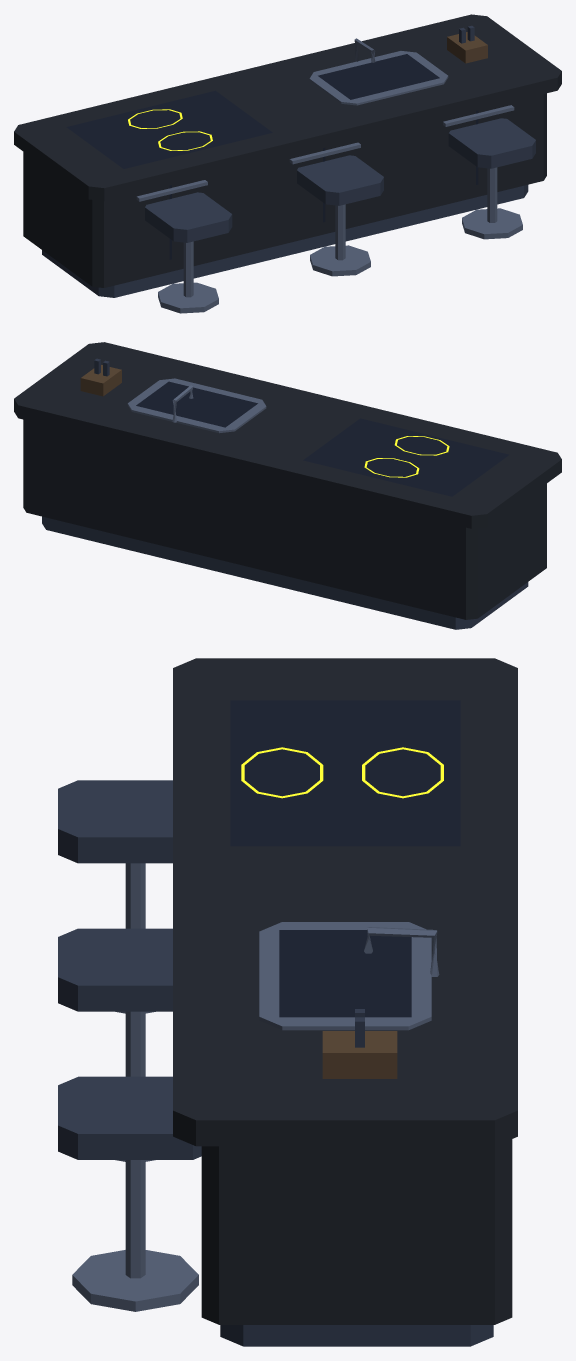
File: res_kitchen_island.glb
The picture shows the model from 3 angles, top to bottom: view 1: azimuth 30°, elevation 25°; view 2: azimuth 150°, elevation 25°; view 3: azimuth 270°, elevation 25°; orthographic projection. The views are drawn at different scales.
Visible parts, largest first — view 1: marble_carcass, drawer_gap, barstool_seat, barstool_base, chef_handle, knife_block, induction_zone; view 2: marble_carcass, drawer_gap, chef_handle, barstool_base, knife_block, induction_zone; view 3: marble_carcass, drawer_gap, barstool_seat, barstool_base, chef_handle, knife_block, induction_zone.
Part boxes in pixels (x1=…): marble_carcass: x1=14, y1=14, x2=561, y2=287; drawer_gap: x1=66, y1=54, x2=478, y2=259; barstool_seat: x1=145, y1=118, x2=535, y2=242; barstool_base: x1=136, y1=38, x2=522, y2=313; chef_handle: x1=42, y1=25, x2=528, y2=297; knife_block: x1=447, y1=32, x2=487, y2=63; induction_zone: x1=128, y1=109, x2=212, y2=150; marble_carcass: x1=14, y1=342, x2=561, y2=619; drawer_gap: x1=136, y1=381, x2=509, y2=496; chef_handle: x1=42, y1=358, x2=528, y2=629; barstool_base: x1=127, y1=378, x2=266, y2=433; knife_block: x1=80, y1=365, x2=121, y2=396; induction_zone: x1=364, y1=436, x2=449, y2=477; marble_carcass: x1=173, y1=658, x2=517, y2=1324; drawer_gap: x1=230, y1=700, x2=460, y2=1017; barstool_seat: x1=58, y1=780, x2=201, y2=1159; barstool_base: x1=72, y1=863, x2=439, y2=1311; chef_handle: x1=220, y1=1009, x2=493, y2=1346; knife_block: x1=322, y1=1031, x2=397, y2=1078; induction_zone: x1=241, y1=747, x2=443, y2=798.
Bounding box in the file's own units: 3.8 × 1.15 × 1.6.
